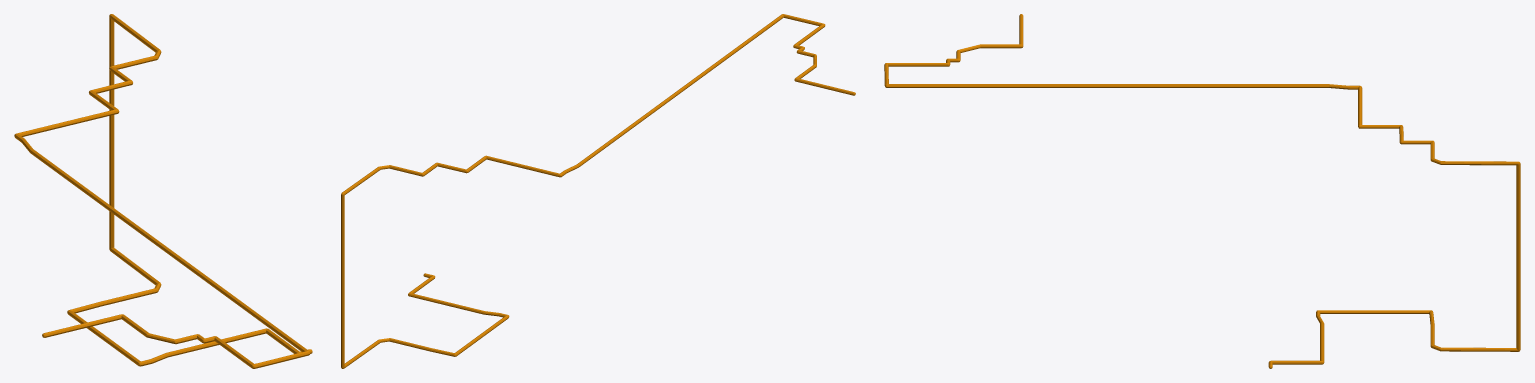
3 views of the same model, side by side, from view 1: azimuth 30°, elevation 25°; view 2: azimuth 150°, elevation 25°; view 3: azimuth 270°, elevation 25° (orthographic). The views are drawn at different scales.
Bounding box in the file's own units: 1914 × 1020 × 3092.
